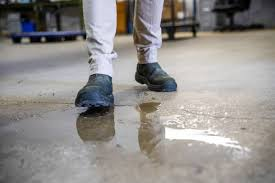Wet-floor: (4, 104, 249, 176)
